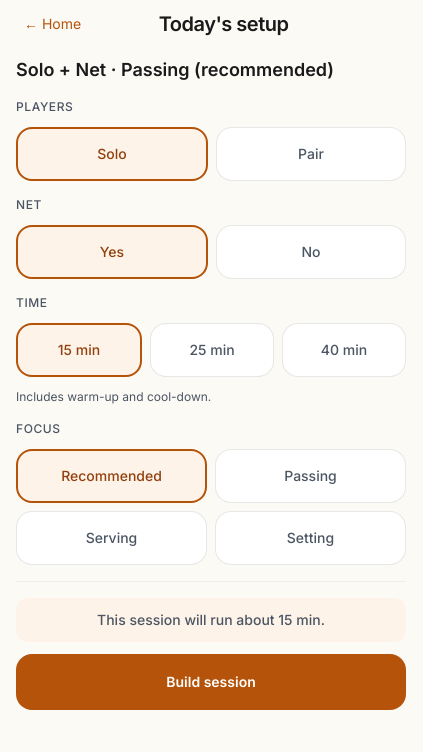
SetupScreen (C-3) › R7+R8+R10 assembled-duration preview (U5) › hides the duration preview when Setup is not yet completable (incompleteHint owns the surface)
Click the radio button labelled "Solo".
click(112, 154)  # box [16, 127, 208, 181]
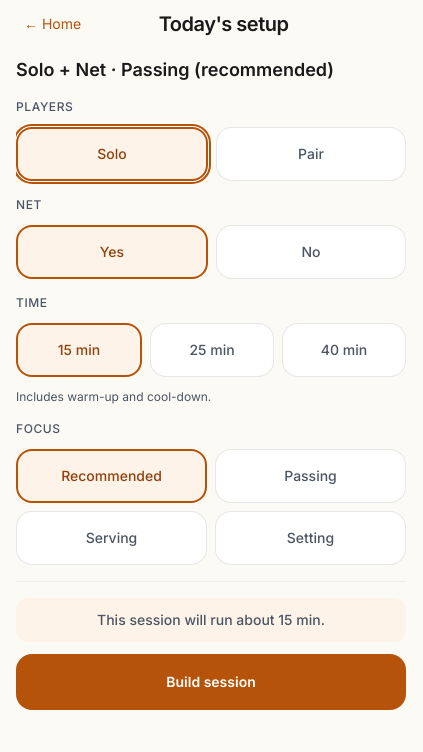
Click the radio button labelled "No".
click(311, 252)  # box [216, 225, 406, 279]
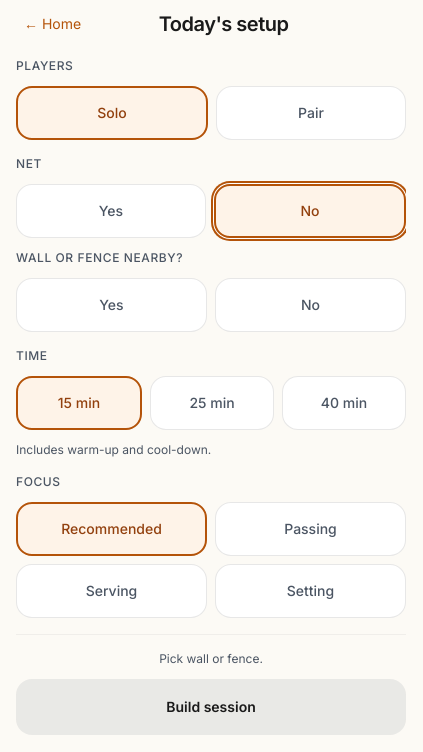
Expected: the button "Build session" is disabled, [16, 679, 406, 735]
Expected: the text "Pick wall or fence." is shown, [159, 651, 263, 666]
Expected: the text with test id "setup-assembled-duration" is gone
